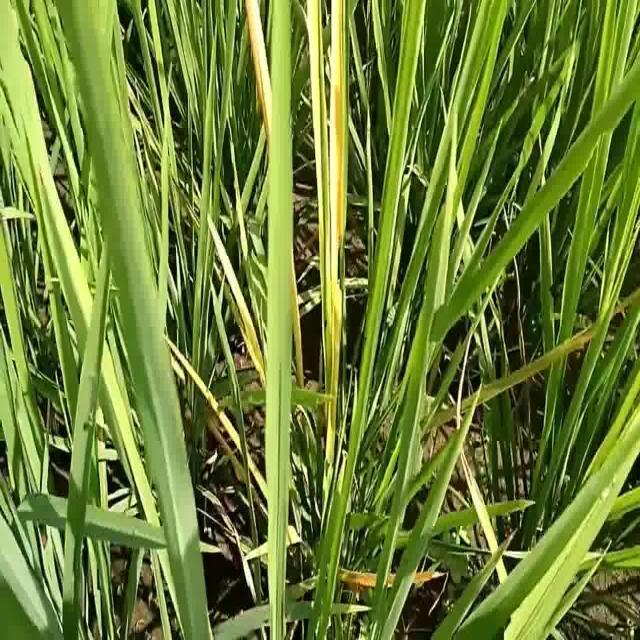Rice Tungro: (306, 1, 330, 340), (328, 1, 348, 375), (242, 1, 279, 163)
